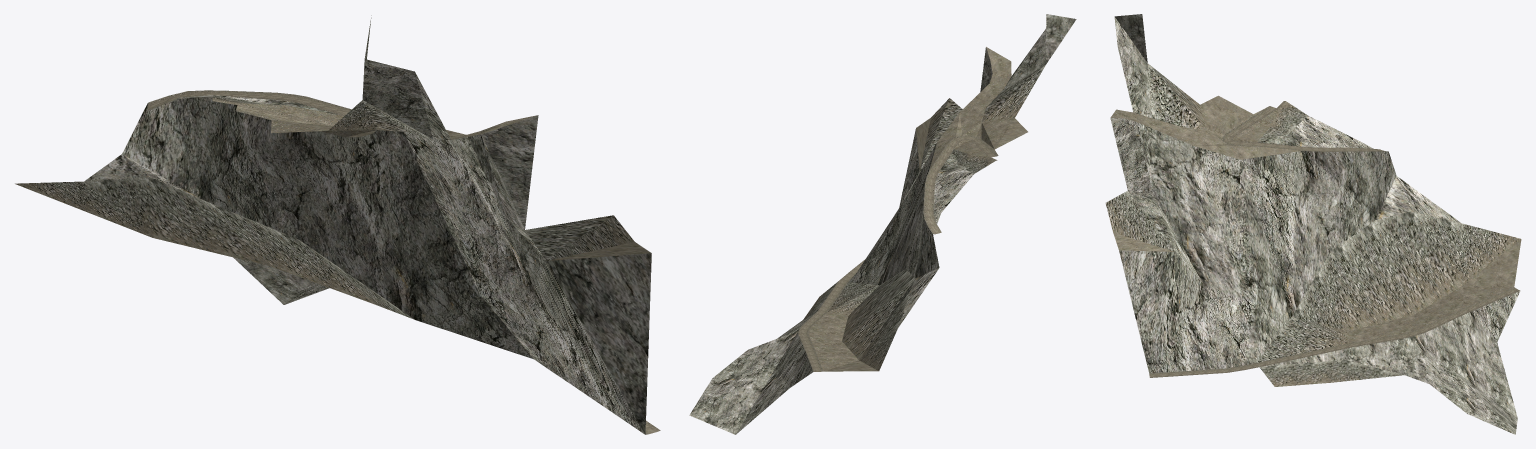
Rendered from cs_landbit_12.obj.
The picture shows the model from 3 angles, left to right: view 1: azimuth 30°, elevation 25°; view 2: azimuth 150°, elevation 25°; view 3: azimuth 270°, elevation 25°; orthographic projection. The views are drawn at different scales.
Visible parts, largest first — view 1: cs_landbit_12; view 2: cs_landbit_12; view 3: cs_landbit_12.
Boxes of the visible parts, x1,y1,x2,y2 form: cs_landbit_12: [15, 15, 660, 434]; cs_landbit_12: [689, 14, 1076, 434]; cs_landbit_12: [1105, 14, 1521, 434].
Bounding box in the file's own units: 143 × 222 × 248.
